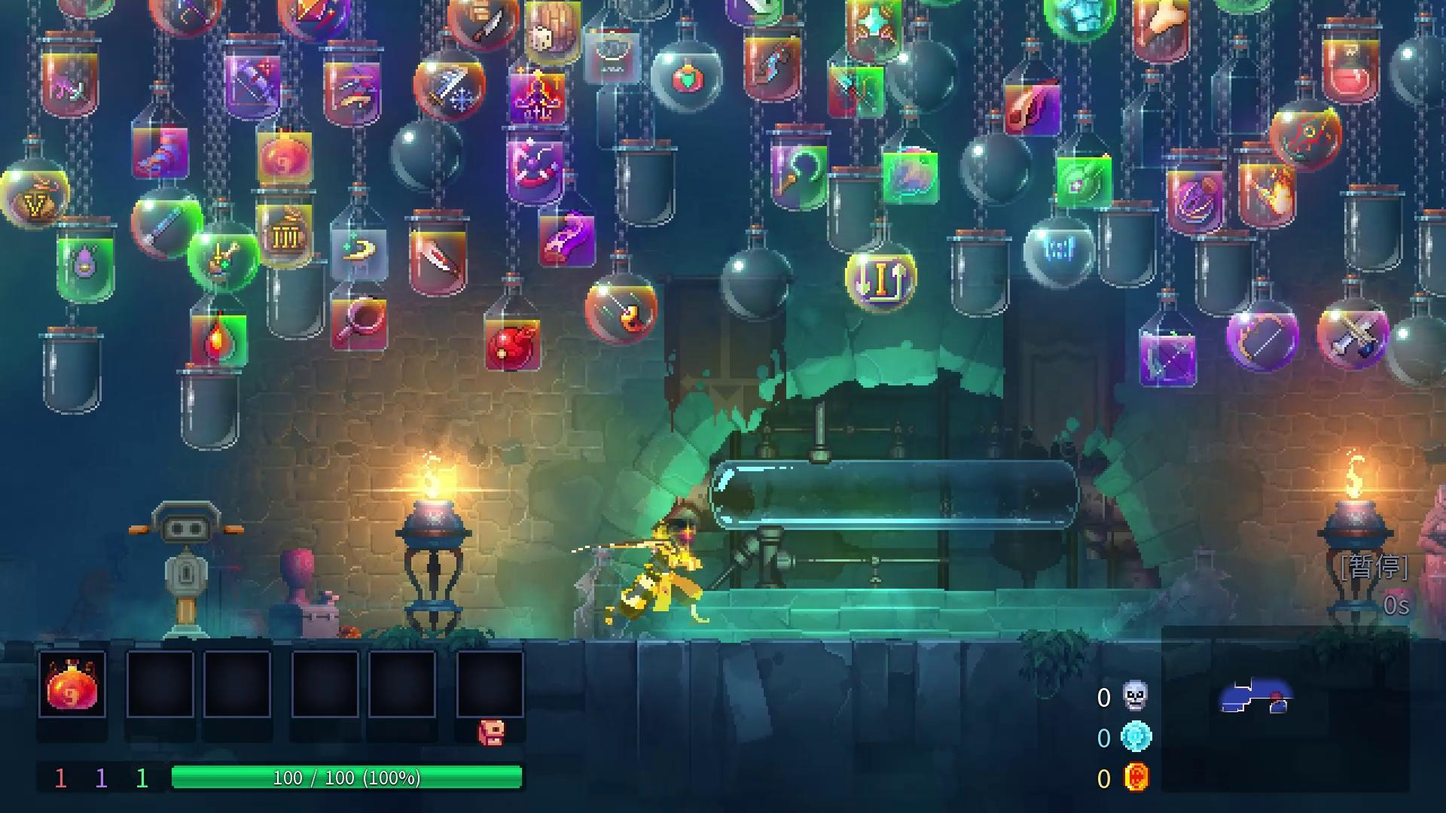gamer: (577, 512, 712, 634)
